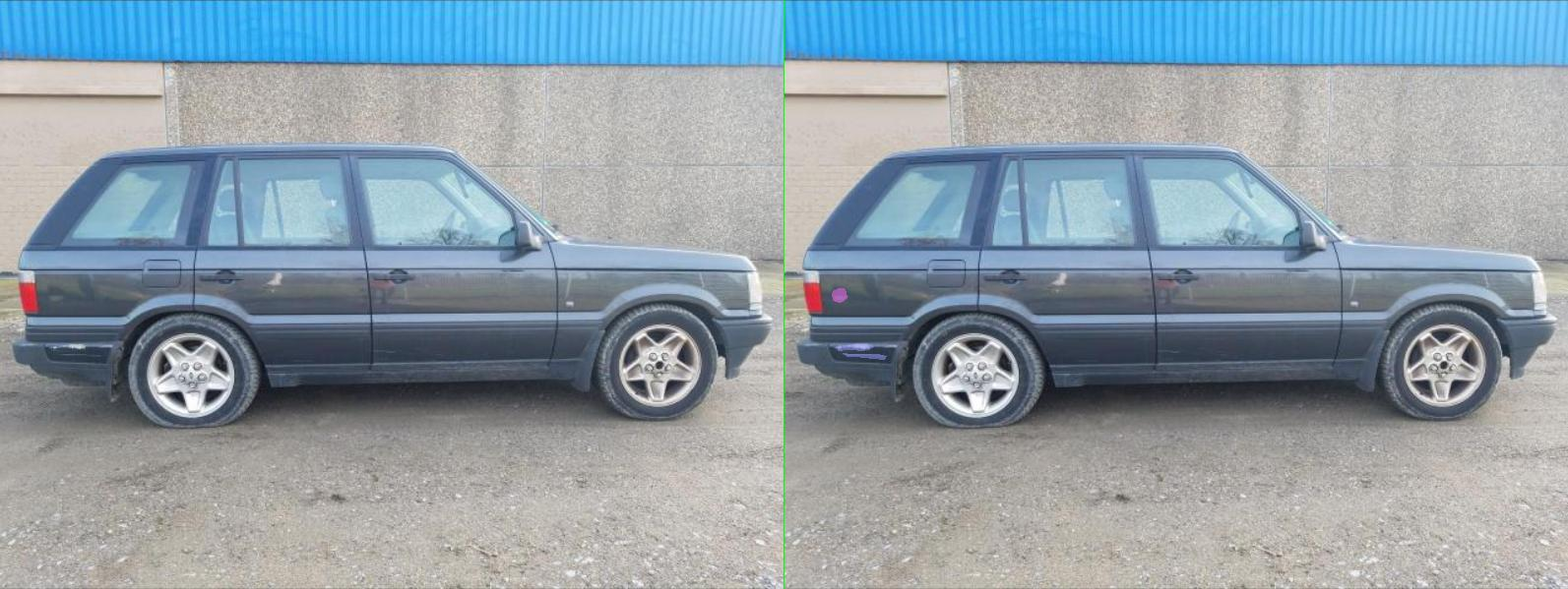Dent: (95, 288, 124, 302)
Scratch: (102, 343, 177, 350), (116, 353, 203, 359)
